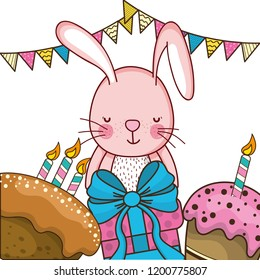animal: (53, 20, 198, 165)
